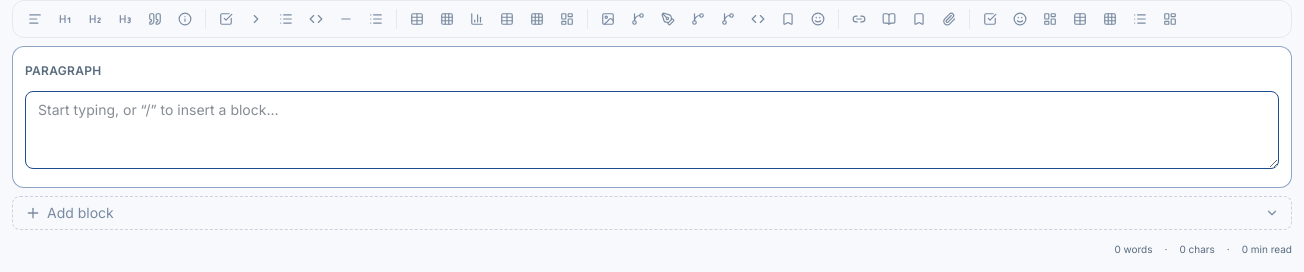
BlockEditor — Know Studio blocks › mouseup with selected text shows the floating toolbar (KR-002)
Type "hello world" into the text box named "Paragraph content". click: (652, 130)
box: [25, 91, 1279, 169]
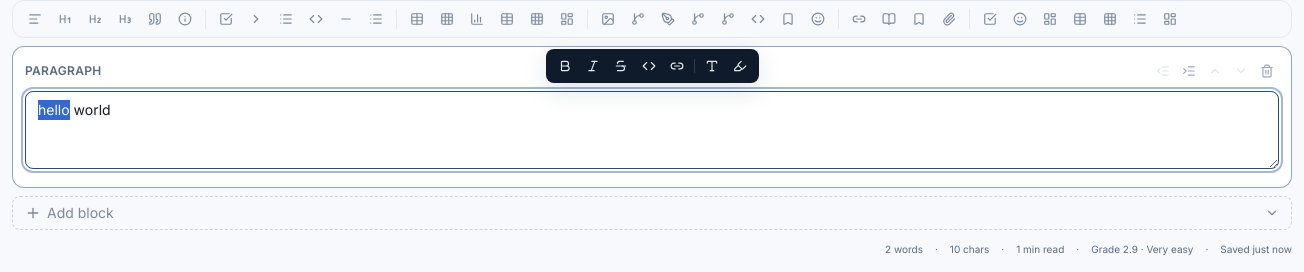
Expected: the element named "Text formatting" is shown, [546, 49, 758, 83]
